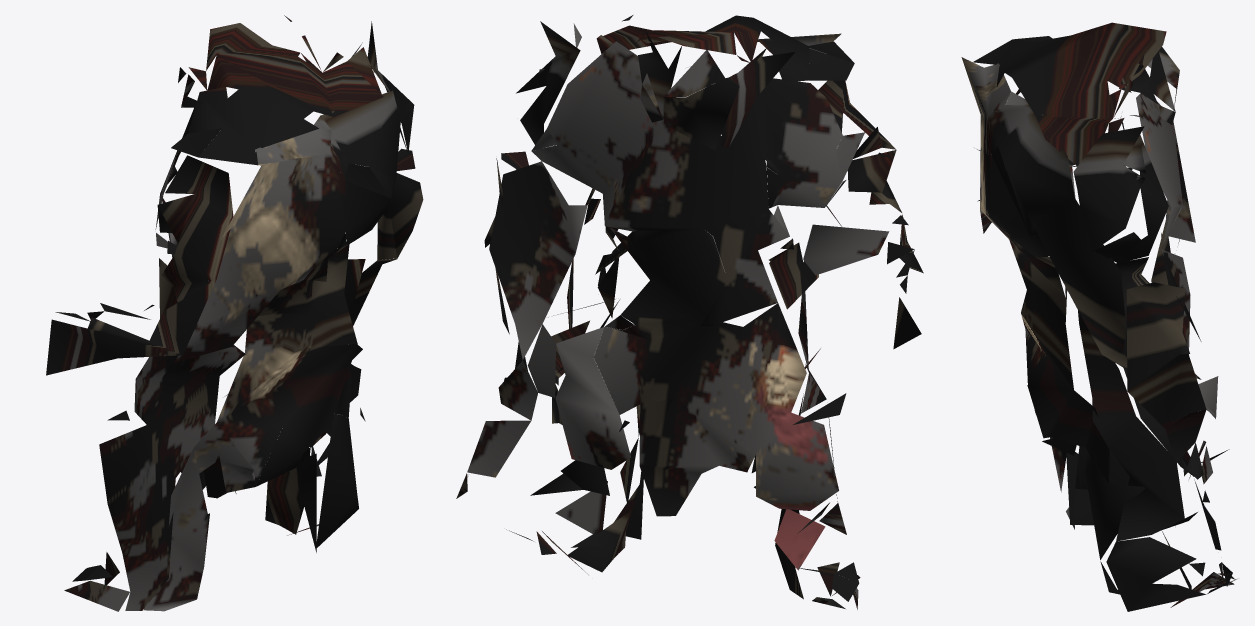
3 renders of one model, left to right at view 1: azimuth 30°, elevation 25°; view 2: azimuth 150°, elevation 25°; view 3: azimuth 270°, elevation 25°, orthographic. The views are drawn at different scales.
Parts seen in each view (by area): view 1: body.002; view 2: body.002; view 3: body.002.
Part boxes in pixels (x1=…): body.002: x1=46, y1=15, x2=423, y2=611; body.002: x1=456, y1=15, x2=923, y2=609; body.002: x1=961, y1=22, x2=1236, y2=611.
Bounding box in the file's own units: 1.58 × 1.97 × 0.922.
1 material, 1 textured.
